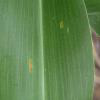Corn rust leaf: (0, 0, 83, 99)
